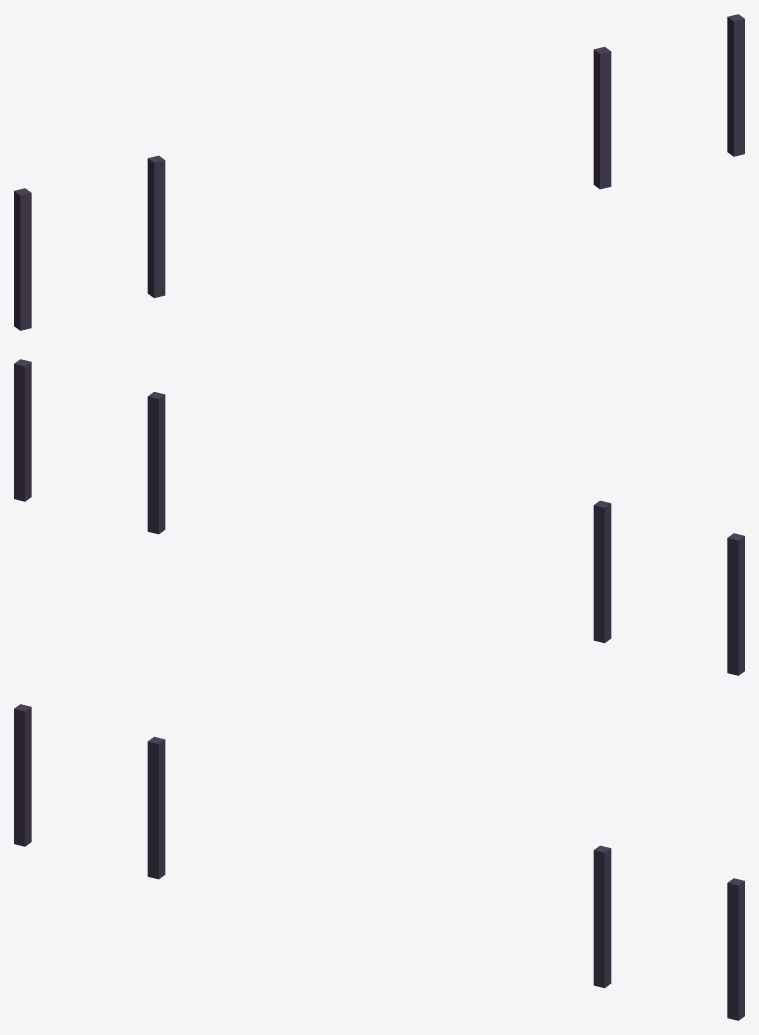
Rendered from HighwayPiers.fbx.
3 views of the same model, one above another, from view 1: azimuth 30°, elevation 25°; view 2: azimuth 150°, elevation 25°; view 3: azimuth 330°, elevation 25° (orthographic).
Visible parts, largest first — view 1: HighwayPier-160.001; view 2: HighwayPier-160.001; view 3: HighwayPier-160.001.
Boxes of the visible parts, x1,y1,x2,y2 form: HighwayPier-160.001: [14, 14, 744, 330]; HighwayPier-160.001: [14, 359, 744, 675]; HighwayPier-160.001: [14, 704, 744, 1020].
Bounding box in the file's own units: 32500 × 5800 × 500.
